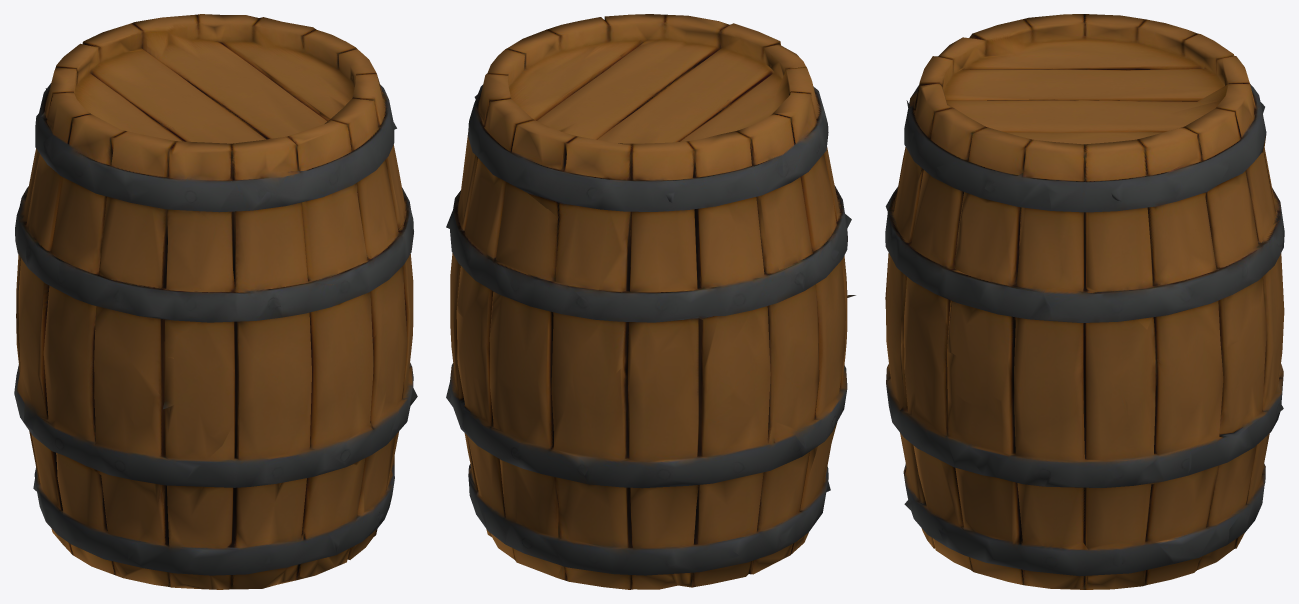
File: medieval_barrel.fbx
3 renders of one model, left to right at view 1: azimuth 30°, elevation 25°; view 2: azimuth 150°, elevation 25°; view 3: azimuth 270°, elevation 25°, orthographic.
Visible parts, largest first — view 1: tripo_node_687029fd; view 2: tripo_node_687029fd; view 3: tripo_node_687029fd.
Part boxes in pixels (x1,y1,x2,y2): tripo_node_687029fd: (14, 14, 417, 589); tripo_node_687029fd: (446, 14, 855, 589); tripo_node_687029fd: (885, 14, 1284, 589).
Bounding box in the file's own units: 0.6188 × 0.75 × 0.6161.
Materials: 1 (1 with a texture image).
